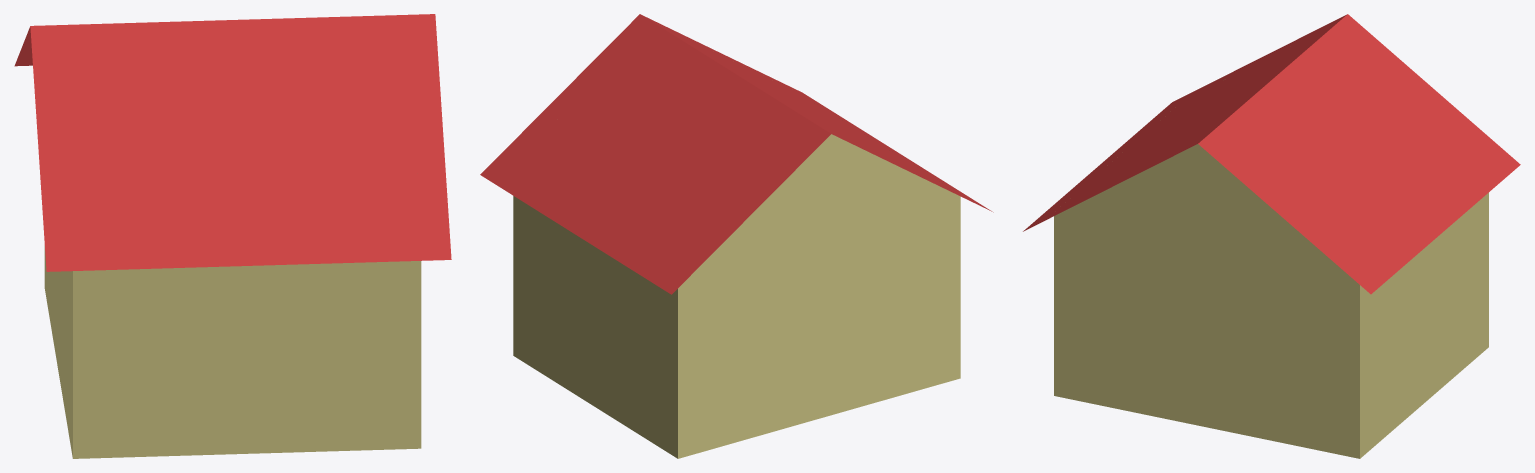
3 renders of one model, left to right at view 1: azimuth 30°, elevation 25°; view 2: azimuth 150°, elevation 25°; view 3: azimuth 270°, elevation 25°, orthographic. The views are drawn at different scales.
Size of the model in its own units: 14.98 by 15.64 by 10.14.
